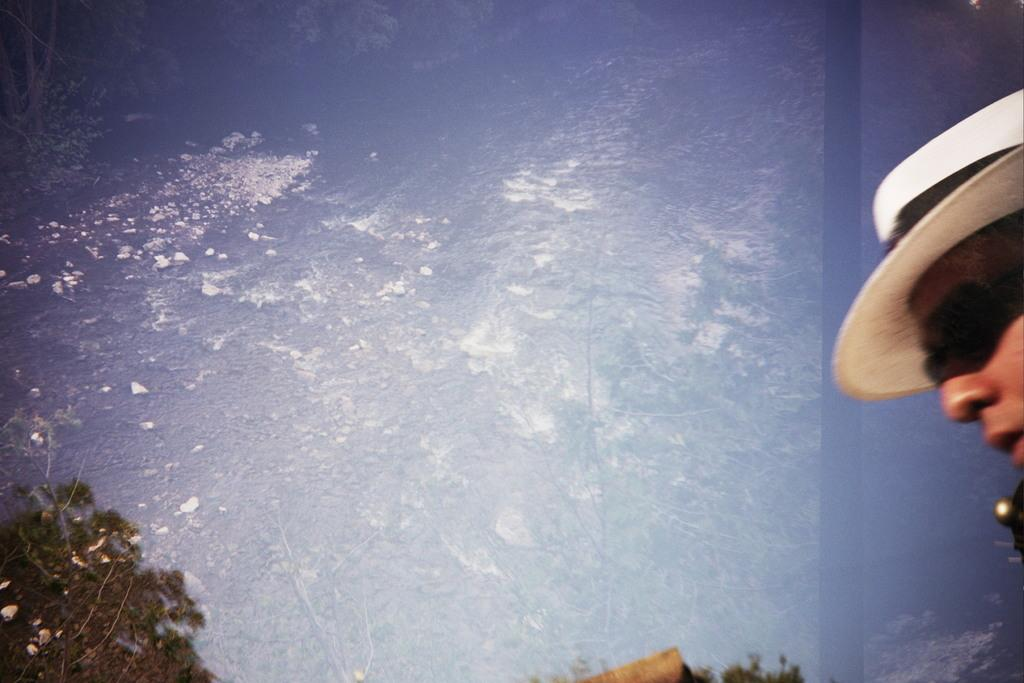Hat: (828, 83, 1024, 403)
